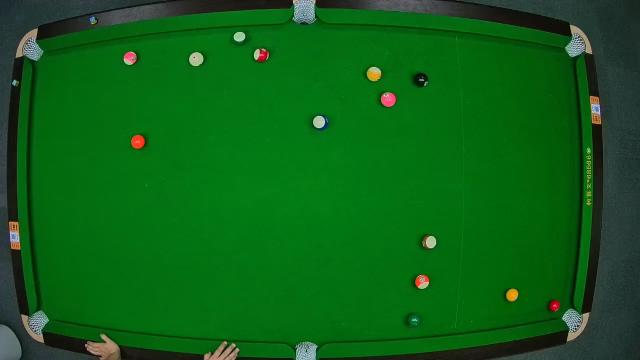bag1: (22, 38, 44, 60)
bag2: (291, 0, 317, 26)
bag3: (566, 29, 588, 57)
bag4: (29, 310, 49, 334)
bag5: (294, 340, 318, 360)
bag6: (563, 308, 585, 332)
ball0: (188, 52, 204, 68)
ball1: (505, 287, 519, 303)
ball10: (312, 115, 328, 130)
ball11: (254, 48, 270, 63)
ball12: (122, 50, 138, 66)
ball13: (415, 275, 431, 291)
ball14: (232, 29, 248, 45)
ball15: (422, 234, 438, 250)
ball3: (548, 300, 562, 312)
ball4: (380, 92, 398, 108)
ball5: (130, 134, 146, 150)
ball6: (406, 312, 422, 328)
ball8: (414, 72, 428, 88)
ball9: (367, 67, 381, 81)
